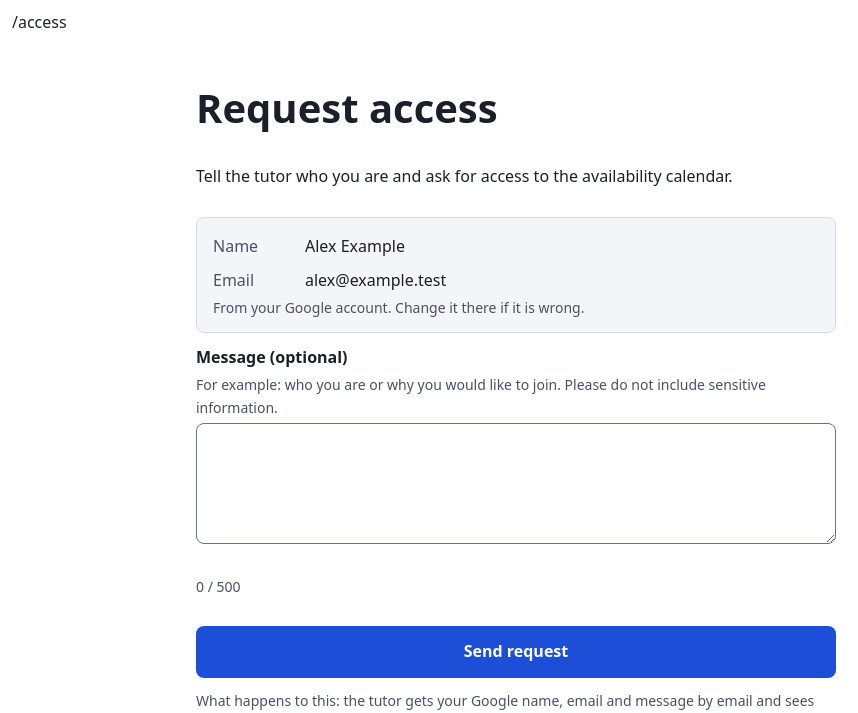
Test: AccessPage › shows the form with the account details and sends a request
Expected: the heading "Request access" is shown, x1=196 y1=80 x2=498 y2=135
Expected: the text "alex@example.test" is shown, x1=305 y1=268 x2=446 y2=293
Type "Hi, it is me" into the text box labelled "Message (optional)" at (516, 483), box x1=196 y1=423 x2=836 y2=544
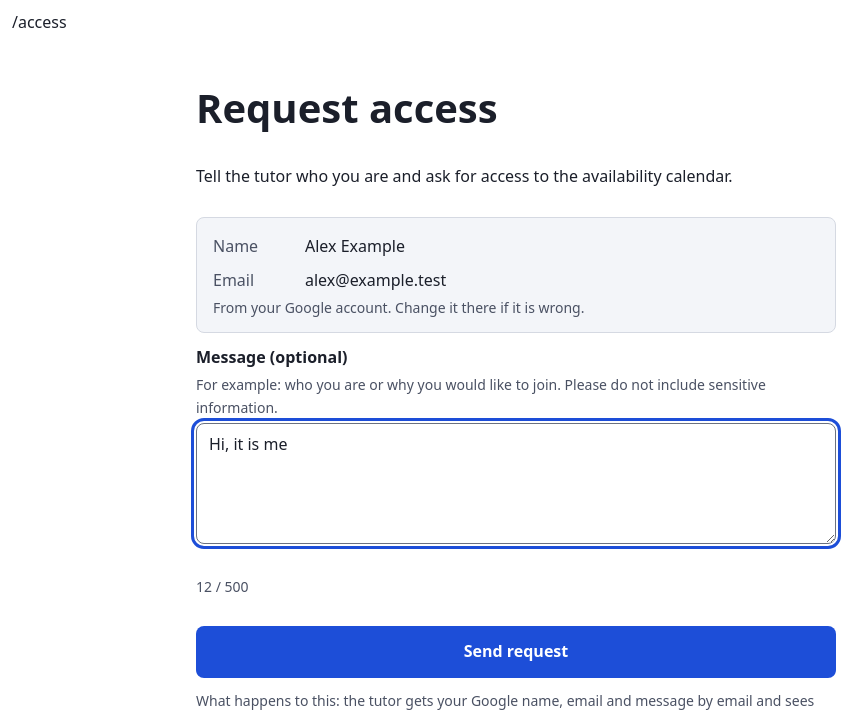
Click the button "Send request" at (516, 652), box x1=196 y1=626 x2=836 y2=678
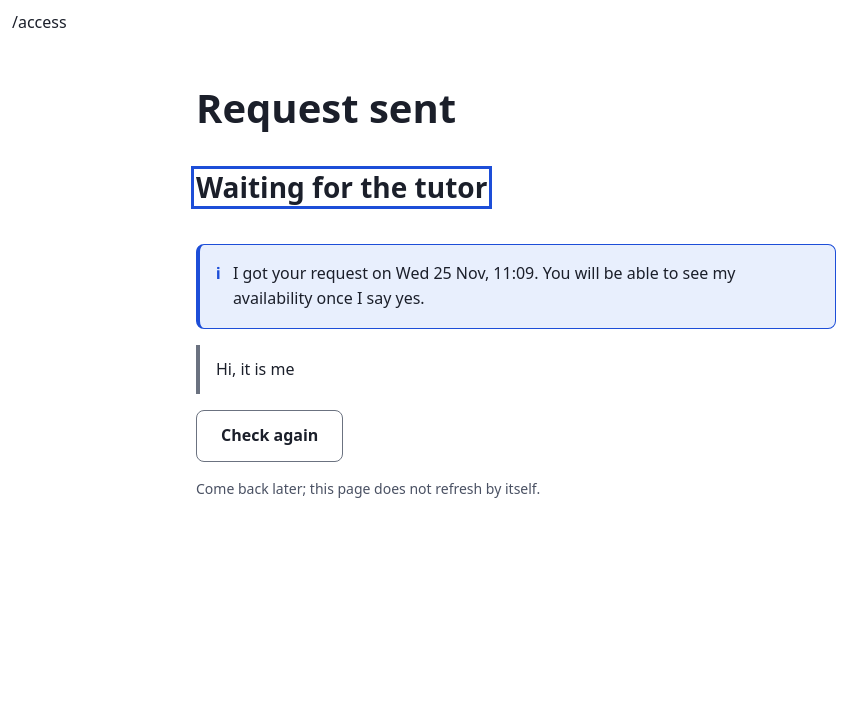
Result: the heading "Request sent" is shown at x1=196 y1=80 x2=456 y2=135
